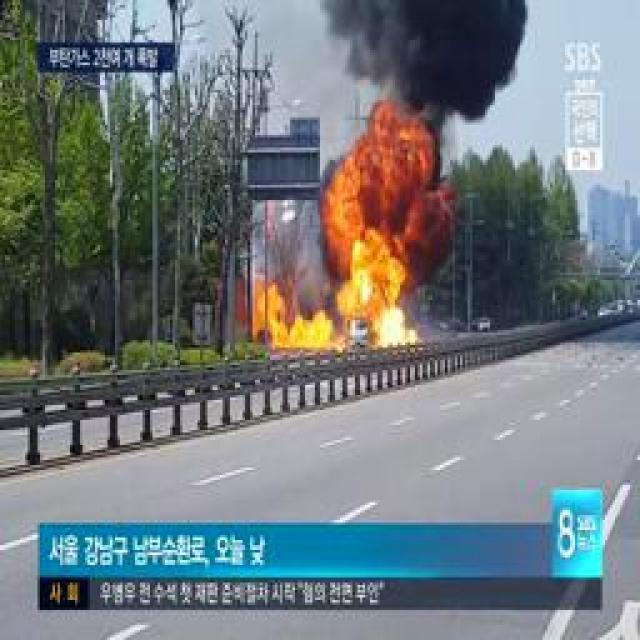Fire: (340, 196, 400, 298), (258, 301, 332, 347), (376, 306, 404, 344)
